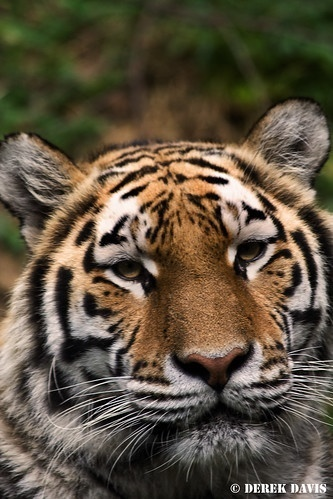tigre: (1, 93, 333, 498)
